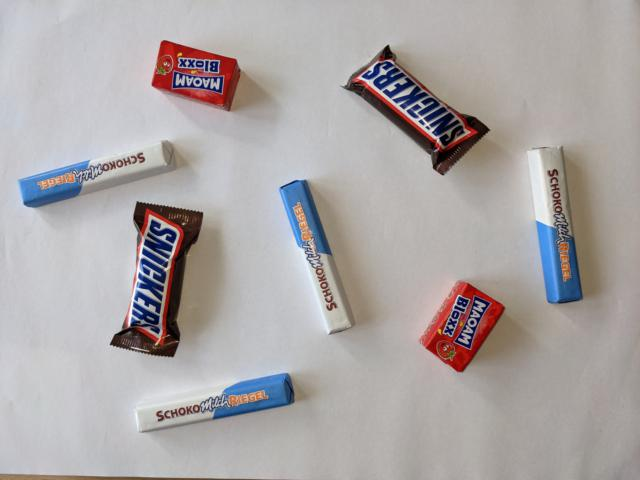MAOAM: (415, 277, 508, 377), (148, 37, 241, 114)
Schokoriegel: (277, 178, 358, 338), (17, 137, 180, 210), (131, 371, 296, 438), (524, 143, 585, 306)
Snickers: (338, 41, 492, 178), (107, 200, 205, 360)
